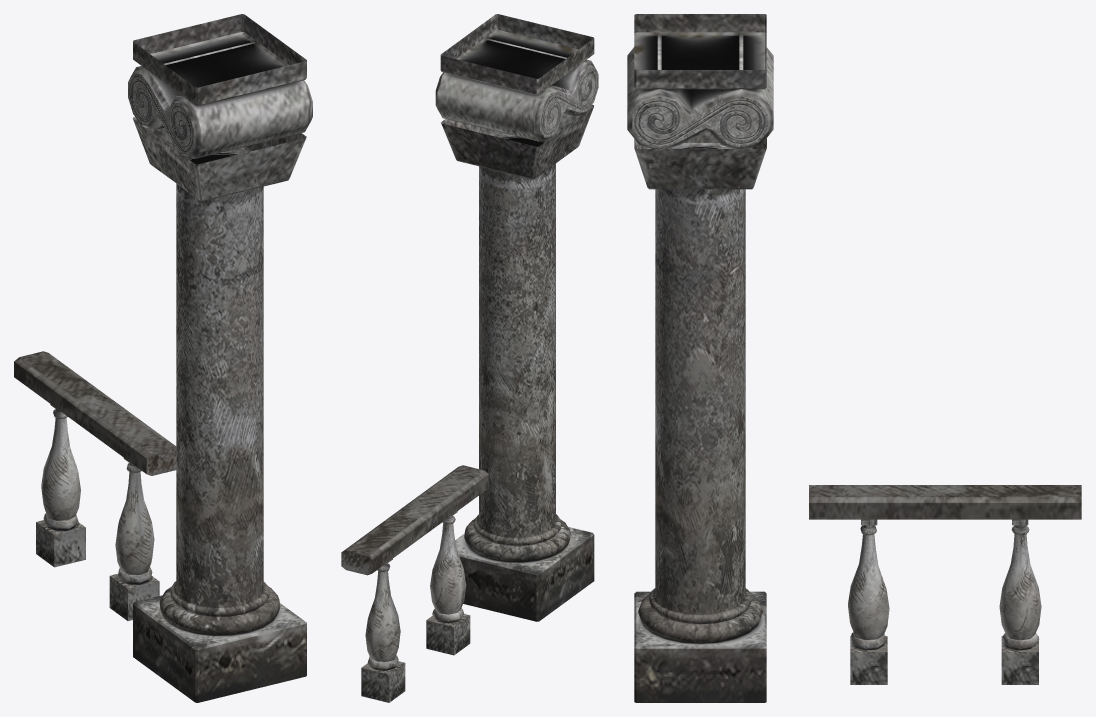
The model's file is entryColum1.fbx.
The picture shows the model from 3 angles, left to right: view 1: azimuth 30°, elevation 25°; view 2: azimuth 150°, elevation 25°; view 3: azimuth 270°, elevation 25°; orthographic projection. The views are drawn at different scales.
Parts seen in each view (by area): view 1: polySurface948; view 2: polySurface948; view 3: polySurface948.
Boxes of the visible parts, x1,y1,x2,y2 form: polySurface948: (14,14,312,702); polySurface948: (341,14,598,702); polySurface948: (627,14,1081,702).
Bounding box in the file's own units: 71.2 × 355 × 230.
